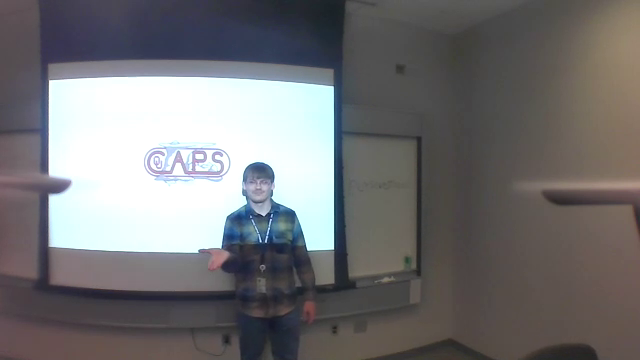land: (194, 245, 239, 277)
